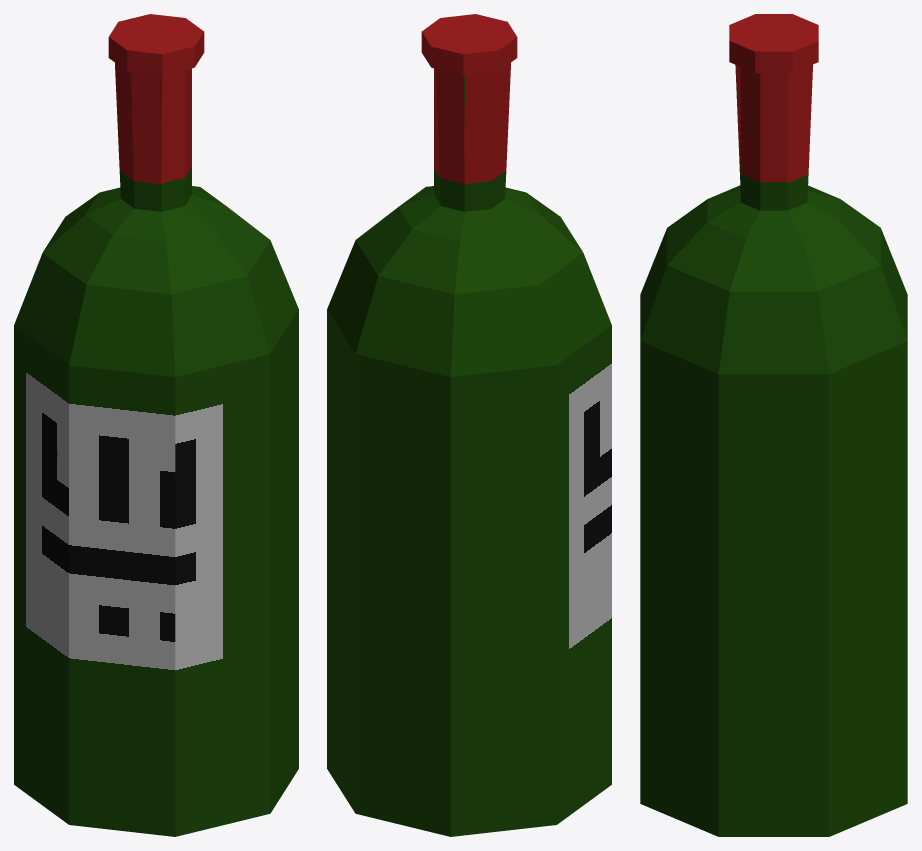
Rendered from botey 2.fbx.
The picture shows the model from 3 angles, left to right: view 1: azimuth 30°, elevation 25°; view 2: azimuth 150°, elevation 25°; view 3: azimuth 270°, elevation 25°; orthographic projection.
Visible parts, largest first — view 1: cylinder; view 2: cylinder; view 3: cylinder.
Boxes of the visible parts, <box> form: cylinder: <box>14,14,298,836</box>; cylinder: <box>327,14,611,836</box>; cylinder: <box>640,14,907,836</box>.
Size of the model in its own units: 53.12 by 164 by 53.12.
Materials: 1 (1 with a texture image).
